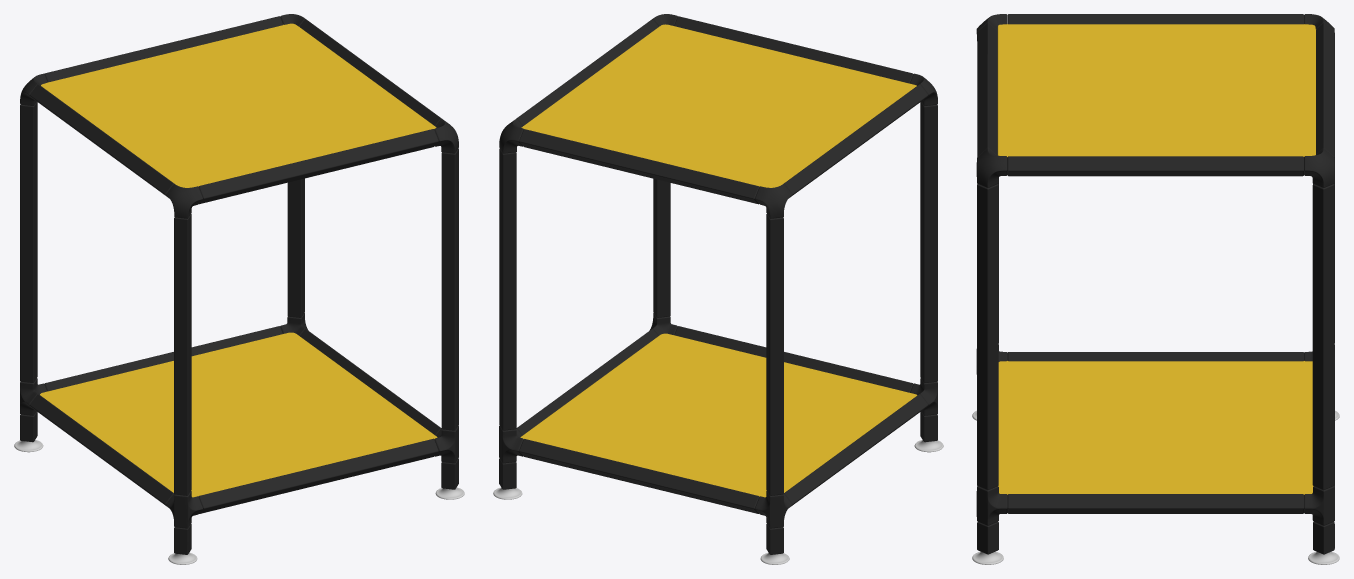
3 views of the same model, side by side, from view 1: azimuth 30°, elevation 25°; view 2: azimuth 150°, elevation 25°; view 3: azimuth 270°, elevation 25° (orthographic). The views are drawn at different scales.
Visible parts, largest first — view 1: 374x374x420; view 2: 374x374x420; view 3: 374x374x420.
Boxes of the visible parts, x1,y1,x2,y2 form: 374x374x420: [14, 14, 464, 564]; 374x374x420: [493, 14, 943, 564]; 374x374x420: [972, 14, 1339, 564].
Bounding box in the file's own units: 0.4639 × 0.5593 × 0.4632.
